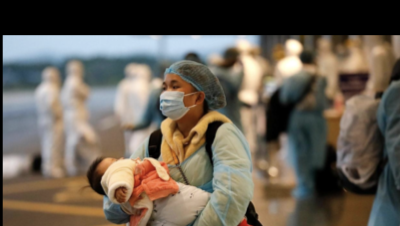with_mask: (160, 78, 193, 120)
